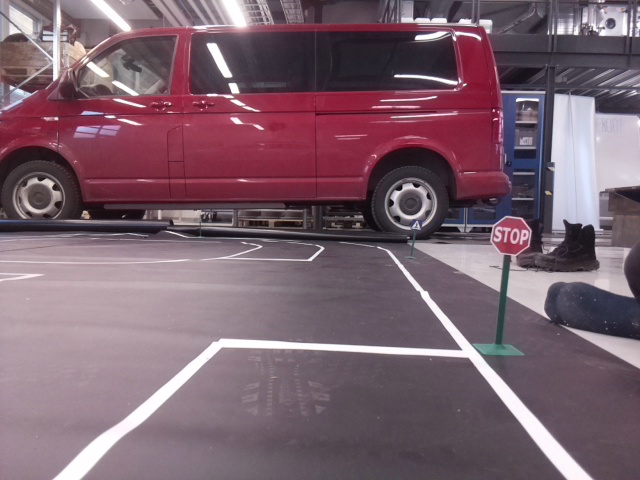Stop: (490, 215, 531, 254)
